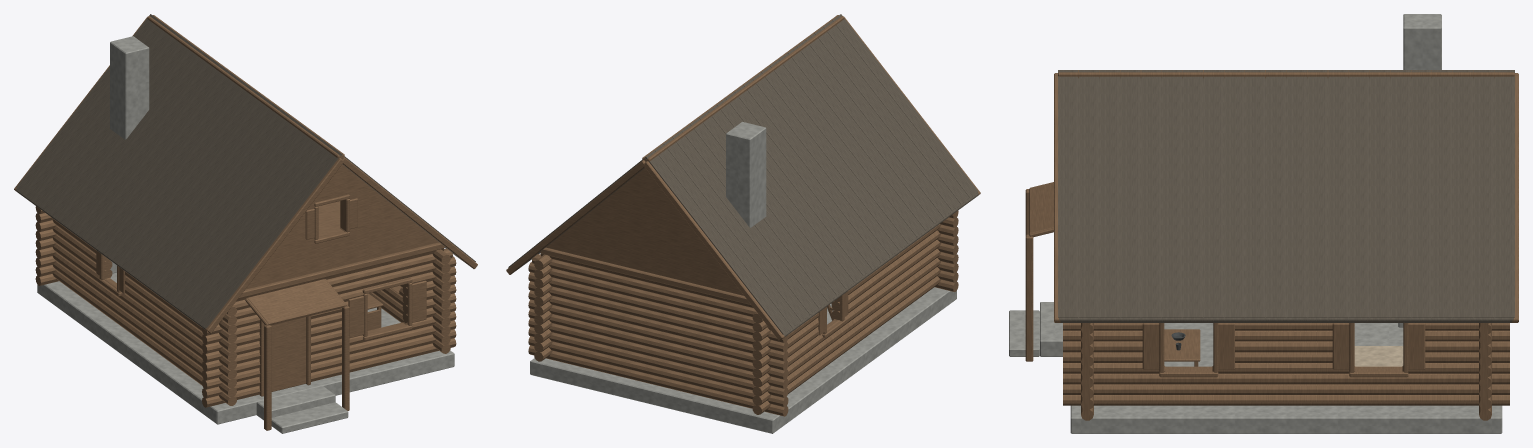
3 views of the same model, side by side, from view 1: azimuth 30°, elevation 25°; view 2: azimuth 150°, elevation 25°; view 3: azimuth 270°, elevation 25° (orthographic). The views are drawn at different scales.
Parts seen in each view (by area): view 1: H01_roof_left, H01_wall_front, H01_foundation, H01_wall_left, H01_gable_front, H01_entry_canopy, H01_chimney, H01_verge_-1_-1, H01_entry_leaf0, H01_wall_right, H01_ridge, H01_wall_rear (+4 smaller); view 2: H01_roof_left, H01_wall_rear, H01_gable_rear, H01_wall_left, H01_foundation, H01_chimney, H01_verge_1_-1, H01_wall_right, H01_ridge, H01_wall_front, H01_roof_right; view 3: H01_roof_right, H01_wall_right, H01_foundation, H01_entry_canopy, H01_ridge, H01_chimney, H01_wall_front, H01_wall_rear, table_top, bed_mattress, H01_verge_1_-1, H01_verge_-1_-1 (+4 smaller).
Boxes of the visible parts, x1,y1,x2,y2 form: H01_roof_left: [16, 14, 341, 329]; H01_wall_front: [202, 194, 456, 407]; H01_foundation: [37, 281, 454, 433]; H01_wall_left: [52, 219, 236, 405]; H01_gable_front: [245, 164, 438, 289]; H01_entry_canopy: [245, 279, 349, 430]; H01_chimney: [110, 36, 149, 139]; H01_verge_-1_-1: [205, 157, 477, 333]; H01_entry_leaf0: [271, 317, 306, 391]; H01_wall_right: [369, 249, 450, 353]; H01_ridge: [147, 15, 344, 158]; H01_wall_rear: [35, 206, 58, 285]; H01_roof_left: [645, 14, 978, 336]; H01_wall_rear: [528, 247, 788, 416]; H01_gable_rear: [546, 168, 743, 295]; H01_wall_left: [752, 224, 941, 414]; H01_foundation: [530, 287, 956, 433]; H01_chimney: [726, 122, 766, 227]; H01_verge_1_-1: [506, 160, 785, 340]; H01_wall_right: [534, 254, 552, 361]; H01_ridge: [642, 15, 844, 161]; H01_wall_front: [934, 210, 958, 291]; H01_roof_right: [508, 14, 840, 271]; H01_roof_right: [1058, 70, 1514, 322]; H01_wall_right: [1063, 323, 1509, 405]; H01_foundation: [1009, 302, 1502, 433]; H01_entry_canopy: [1025, 182, 1053, 361]; H01_ridge: [1058, 70, 1514, 78]; H01_chimney: [1403, 14, 1441, 69]; H01_wall_front: [1081, 323, 1093, 420]; H01_wall_rear: [1479, 323, 1491, 420]; table_top: [1164, 329, 1200, 366]; bed_mattress: [1354, 346, 1403, 366]; H01_verge_1_-1: [1512, 73, 1518, 322]; H01_verge_-1_-1: [1054, 73, 1060, 322].
Bounding box in the file's own units: 7.28 × 6.65 × 9.93.
5 materials, 4 textured.
